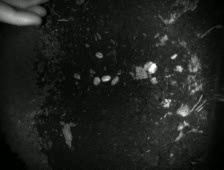corn: (146, 60, 159, 77), (98, 72, 113, 84), (89, 74, 102, 87), (108, 73, 120, 86), (143, 59, 154, 73), (70, 71, 84, 81), (92, 50, 105, 60)
